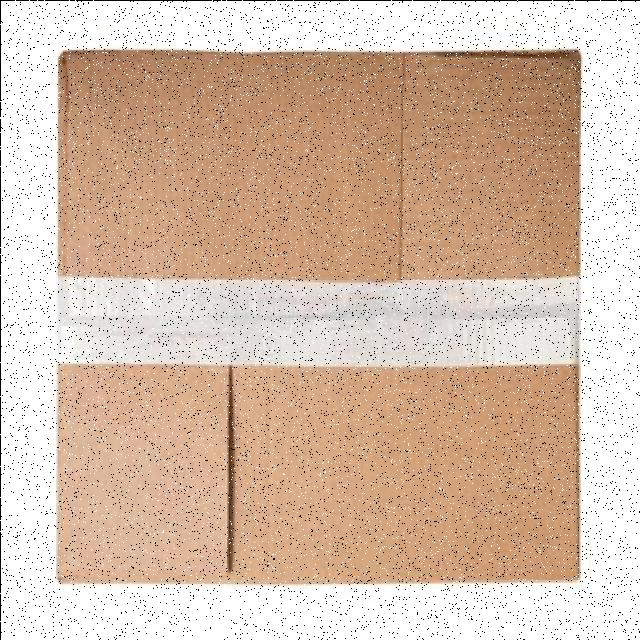normal: (55, 45, 588, 586)
